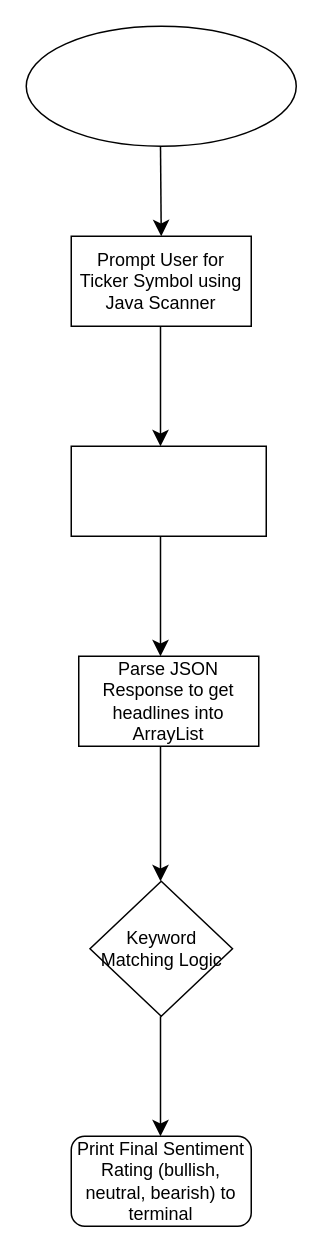
Some shapes in this 323 by 1253 pixel diagram are drawn without their labels. The centre of each missing label's shape, as x and y in pixels:
"Send HTTP GET Request (using java.net.http.HttpClient) to Finnhub" goes at point 168,490.
"Start Program (Main.java) / User Terminal" goes at point 160,85.
